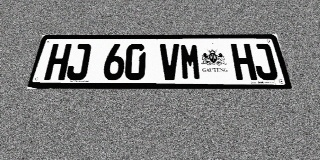0: (124, 44, 146, 80)
6: (102, 44, 126, 80)
H: (43, 44, 72, 80), (230, 44, 257, 80)
J: (250, 44, 279, 80), (65, 44, 92, 80)
M: (180, 44, 202, 80)
V: (160, 44, 180, 80)
